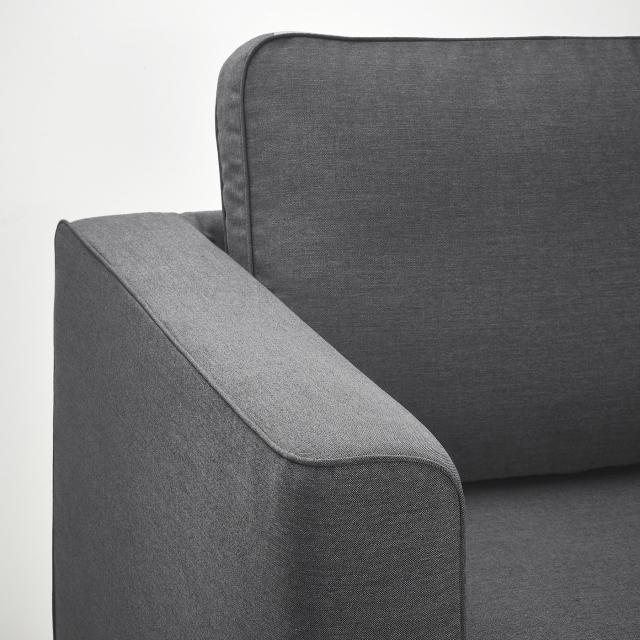sofa: (51, 30, 639, 639)
